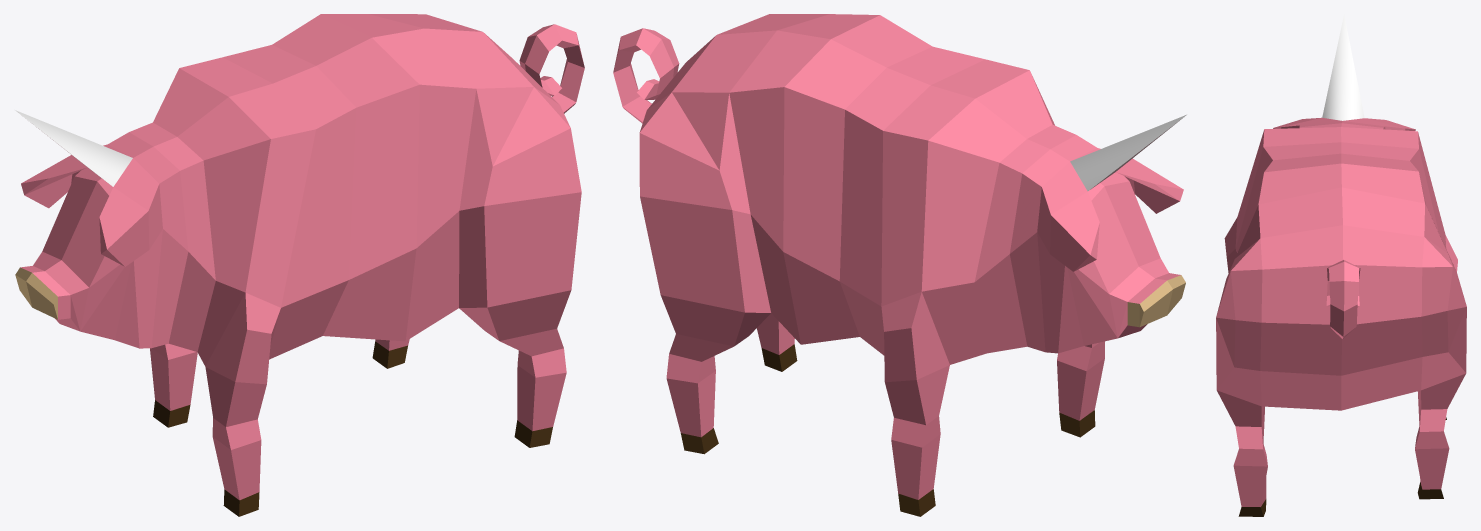
Rendered from pigWalking4.obj.
3 renders of one model, left to right at view 1: azimuth 30°, elevation 25°; view 2: azimuth 150°, elevation 25°; view 3: azimuth 270°, elevation 25°, orthographic. The views are drawn at different scales.
Parts seen in each view (by area): view 1: Pig_Cylinder; view 2: Pig_Cylinder; view 3: Pig_Cylinder.
Boxes of the visible parts, left/top/right/bottom form: Pig_Cylinder: left=15, top=14, right=584, bottom=516; Pig_Cylinder: left=613, top=14, right=1186, bottom=516; Pig_Cylinder: left=1216, top=14, right=1466, bottom=516.
Bounding box in the file's own units: 23.22 × 15.7 × 11.11.
